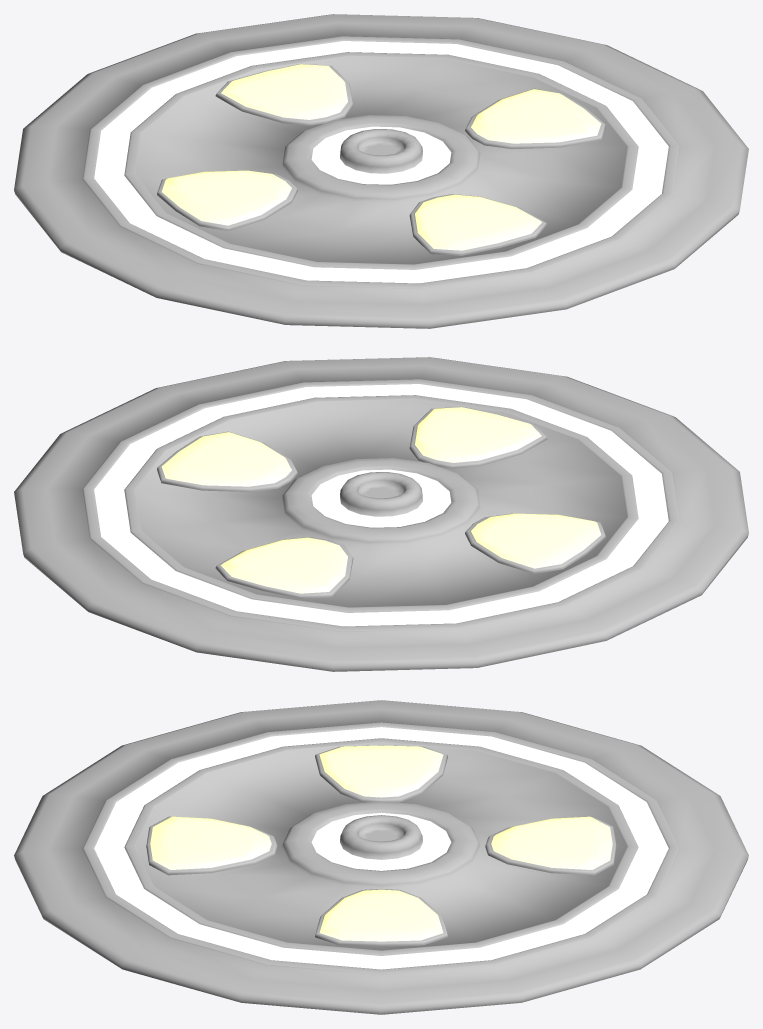
File: PH_TEST_FlagBase.fbx
3 views of the same model, one above another, from view 1: azimuth 30°, elevation 25°; view 2: azimuth 150°, elevation 25°; view 3: azimuth 270°, elevation 25° (orthographic).
Visible parts, largest first — view 1: mesh_MiniGame_CTF_FlagBase; view 2: mesh_MiniGame_CTF_FlagBase; view 3: mesh_MiniGame_CTF_FlagBase.
Boxes of the visible parts, x1,y1,x2,y2 form: mesh_MiniGame_CTF_FlagBase: [14, 14, 748, 328]; mesh_MiniGame_CTF_FlagBase: [14, 357, 748, 671]; mesh_MiniGame_CTF_FlagBase: [14, 700, 748, 1014].
Bounding box in the file's own units: 2.91 × 0.1328 × 2.91.
